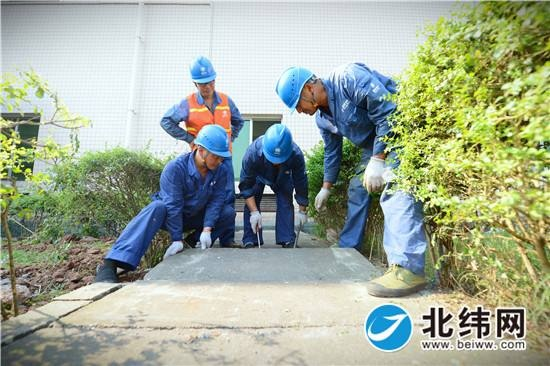blue: (278, 62, 321, 120), (193, 124, 232, 166), (261, 124, 292, 165), (190, 54, 217, 96)
